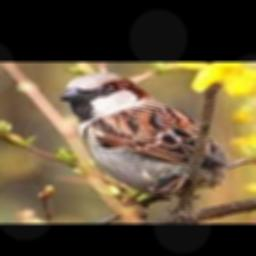Sparrow: (57, 73, 227, 206)
